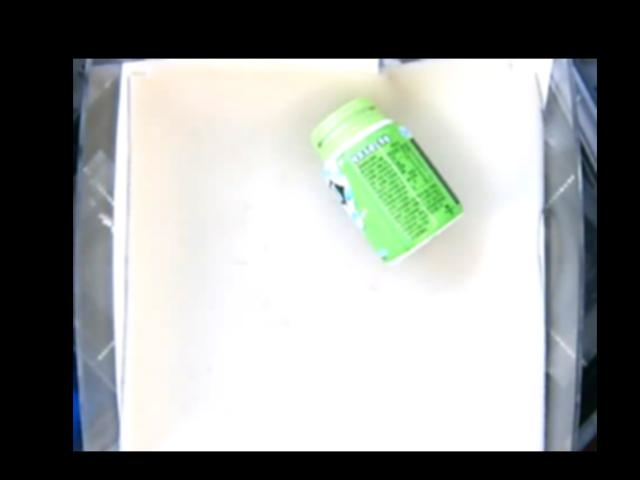Bottle: (307, 95, 466, 264)
